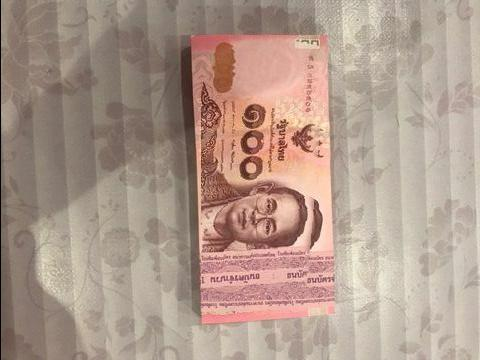100BahtTai: (201, 36, 328, 297)
